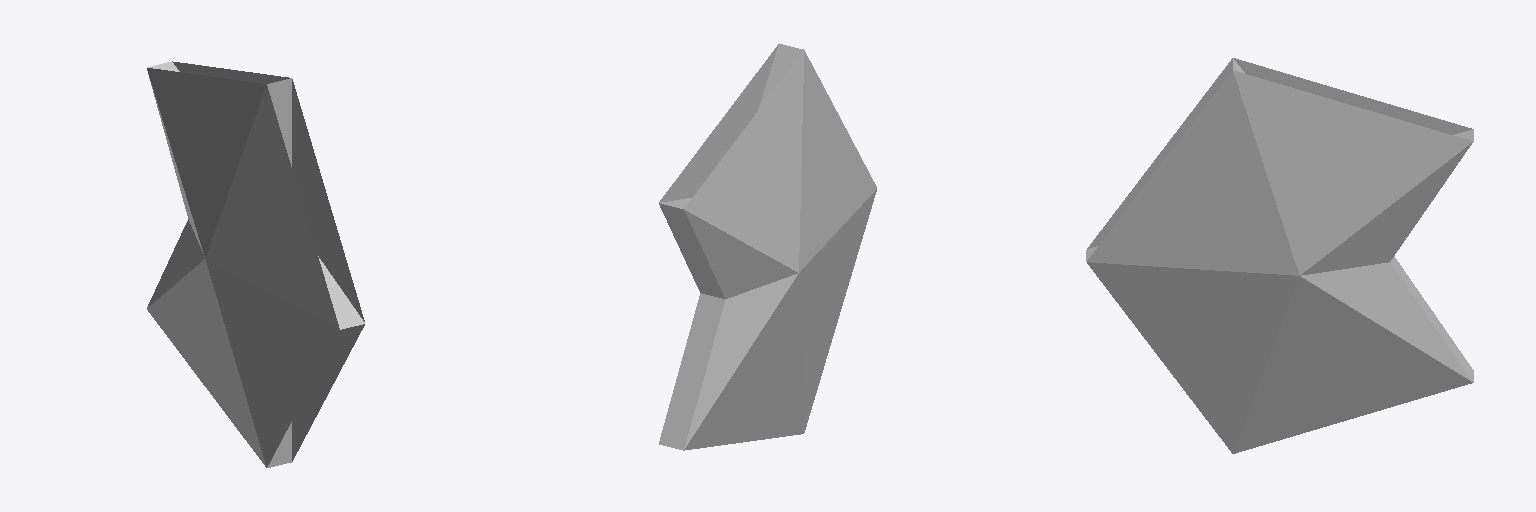
The model's file is star.obj.
The picture shows the model from 3 angles: view 1: azimuth 30°, elevation 25°; view 2: azimuth 150°, elevation 25°; view 3: azimuth 270°, elevation 25°; orthographic projection.
Parts seen in each view (by area): view 1: Plane; view 2: Plane; view 3: Plane.
Part boxes in pixels (x1,y1,x2,y2): Plane: (147, 61, 364, 467); Plane: (659, 44, 876, 450); Plane: (1086, 58, 1473, 453).
Size of the model in its own units: 0.6429 by 2.89 by 2.64.